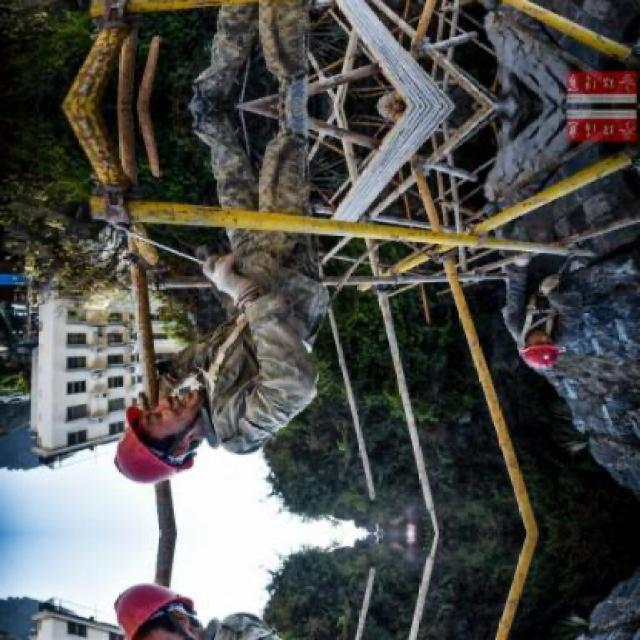con casco: (92, 361, 255, 502)
